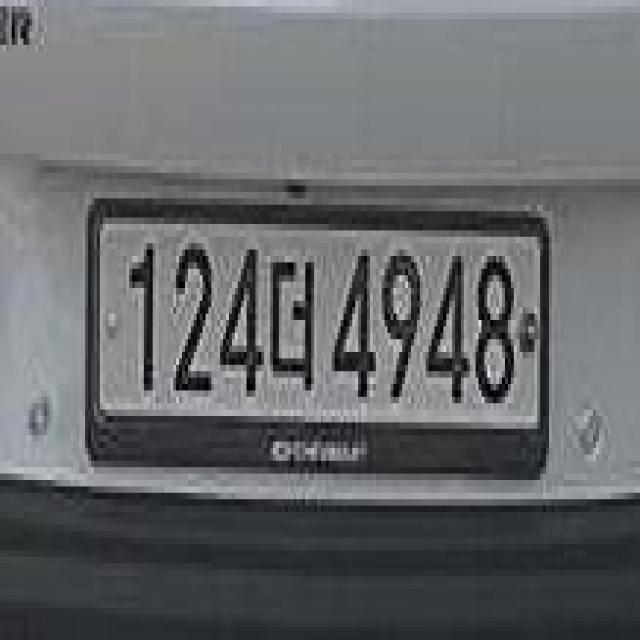illegal_plate: (82, 188, 555, 492)
